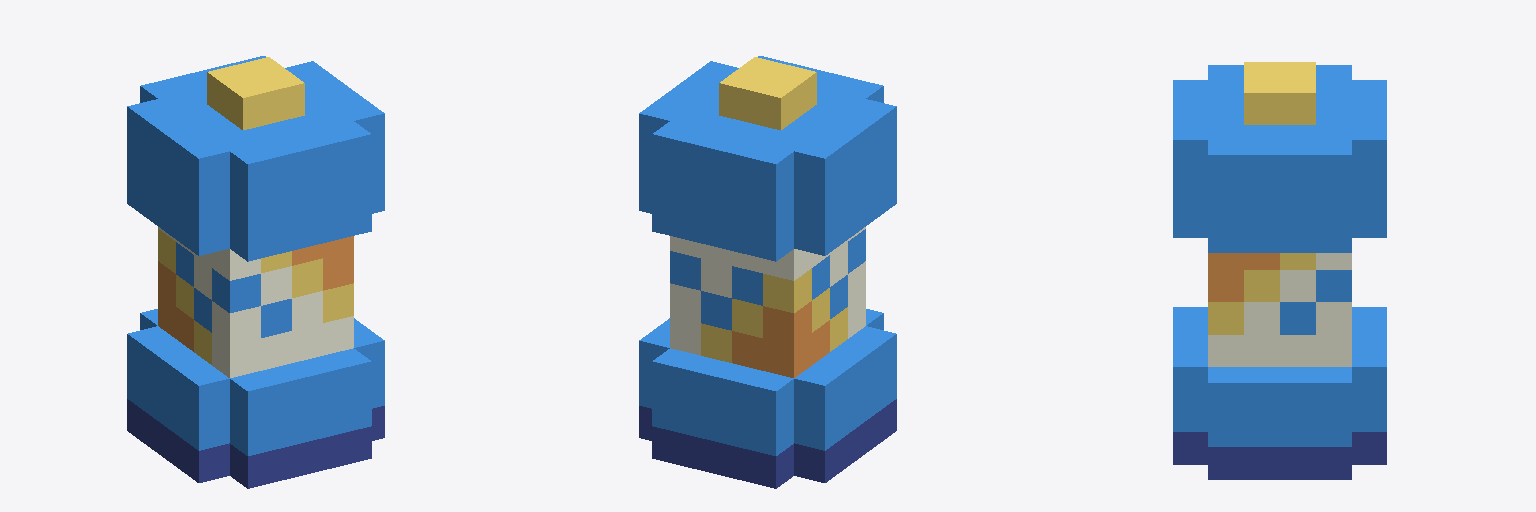
The picture shows the model from 3 angles: view 1: azimuth 30°, elevation 25°; view 2: azimuth 150°, elevation 25°; view 3: azimuth 270°, elevation 25°; orthographic projection.
Parts seen in each view (by area): view 1: Bottle_Bottle.001; view 2: Bottle_Bottle.001; view 3: Bottle_Bottle.001.
Boxes of the visible parts, x1=… form: Bottle_Bottle.001: x1=127, y1=56, x2=384, y2=488; Bottle_Bottle.001: x1=639, y1=56, x2=896, y2=488; Bottle_Bottle.001: x1=1173, y1=62, x2=1386, y2=479.
Bounding box in the file's own units: 0.6 × 1.1 × 0.6.
Materials: 1 (1 with a texture image).